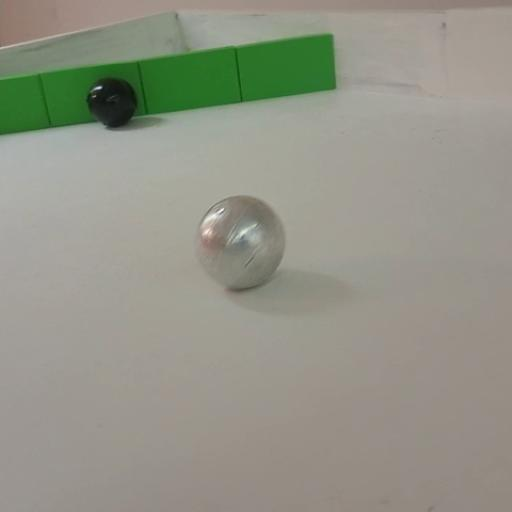alive: (192, 194, 288, 292)
dead: (86, 77, 138, 128)
